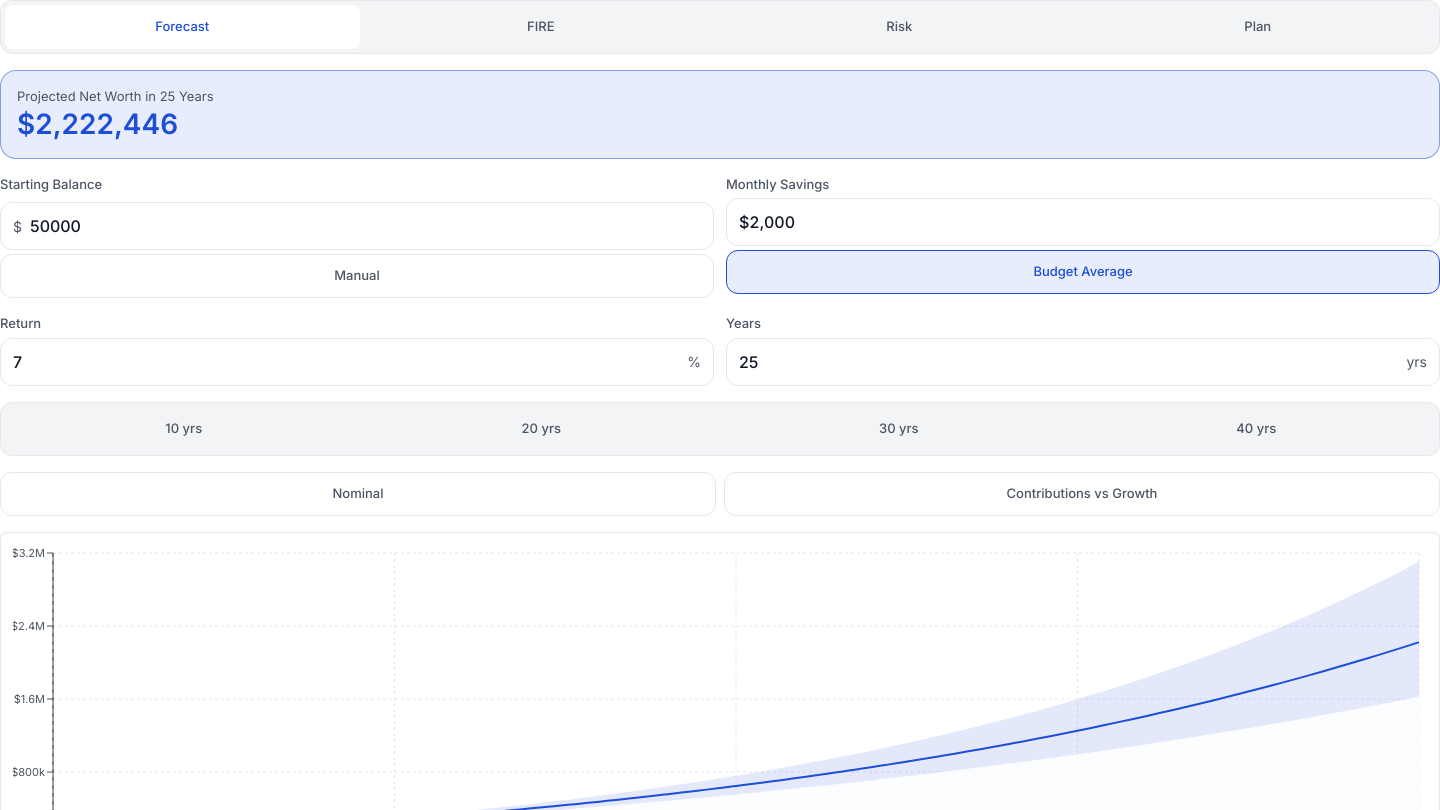
Test case: shows the chance of reaching FI once, with the simulation note behind an info button
The width and height of the screenshot is (1440, 810).
Click the button "Risk" at [899, 27], box [722,5,1076,49]
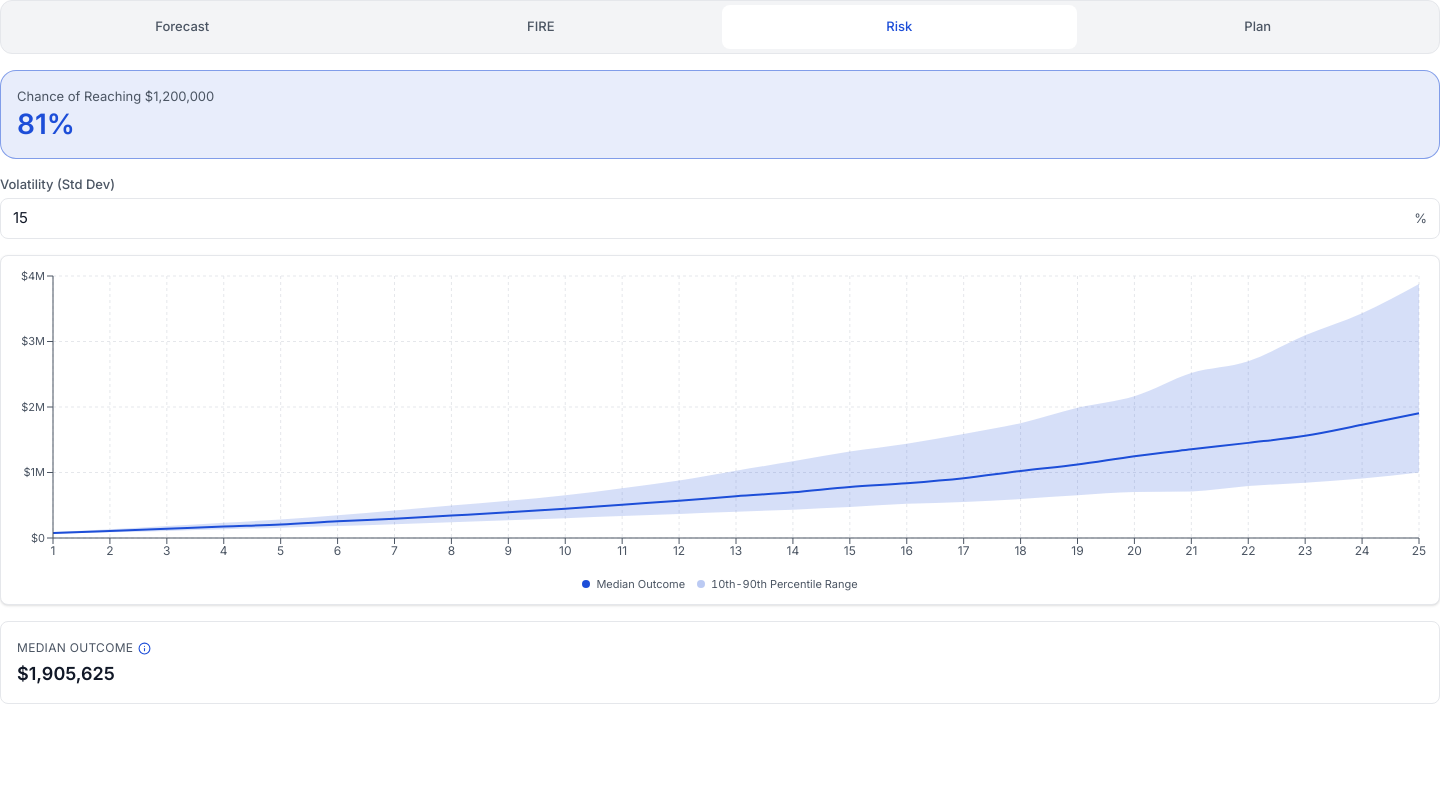
Check: the text "Chance of Reaching $1,200,000" is shown once, box [17,87,214,106]
Check: the text "Median Outcome" next to "10th-90th Percentile Range" is shown, box [596,576,685,590]
Click the button named "About This Simulation" at [144, 648], box [122,626,166,670]
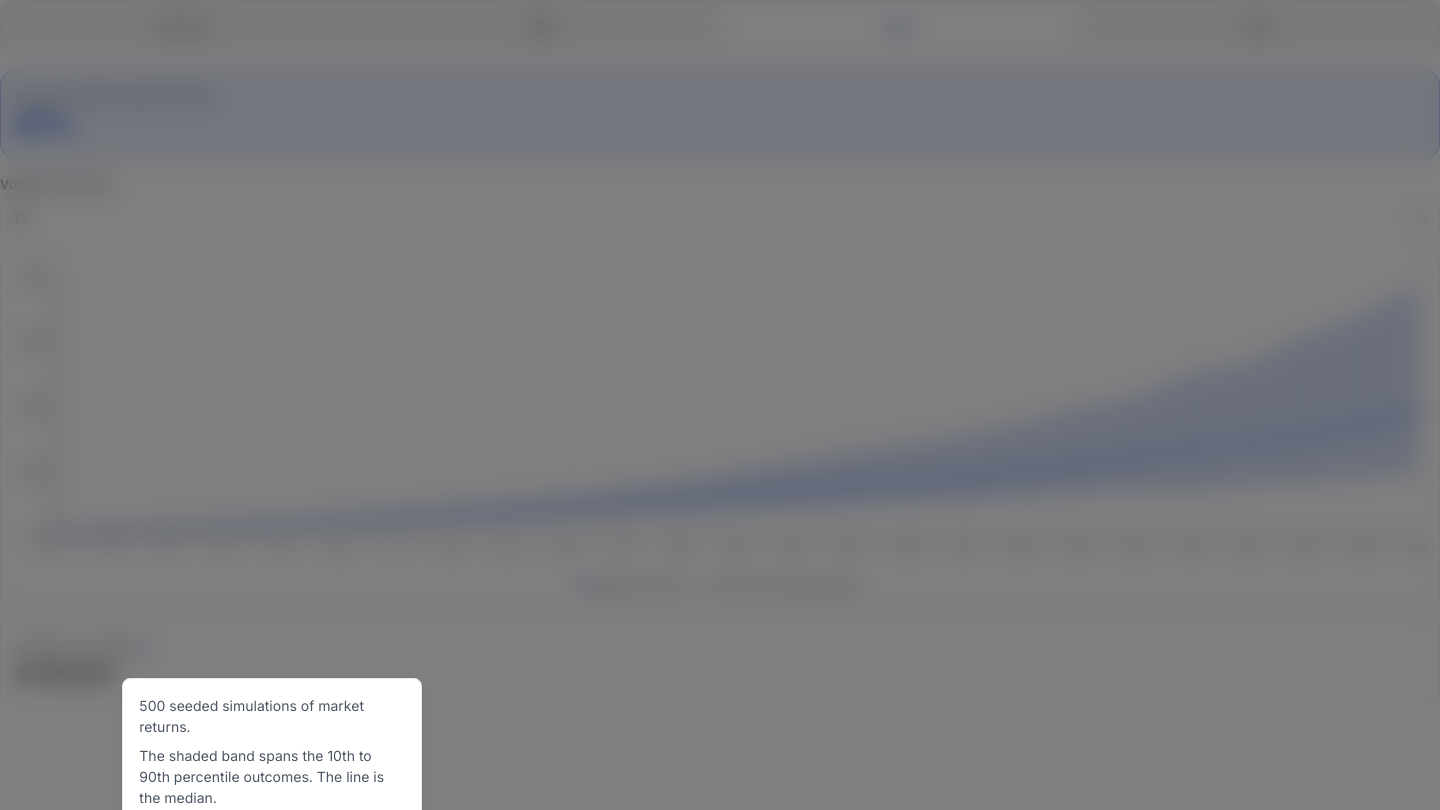
Check: the text "500 seeded simulations of market returns." is shown, box [139,697,364,735]
